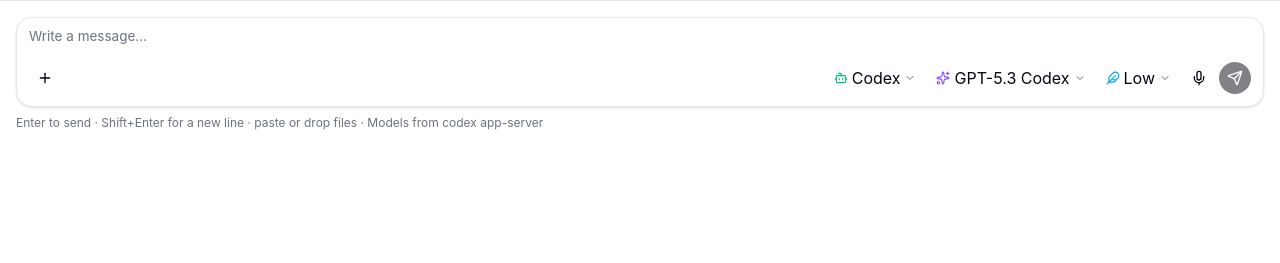
AssistantComposer › completes the highlighted slash command on Tab after arrow navigation
Step 1. Type "/" into the text box with placeholder "Write a message..." → (640, 40), box [17, 18, 1263, 62]
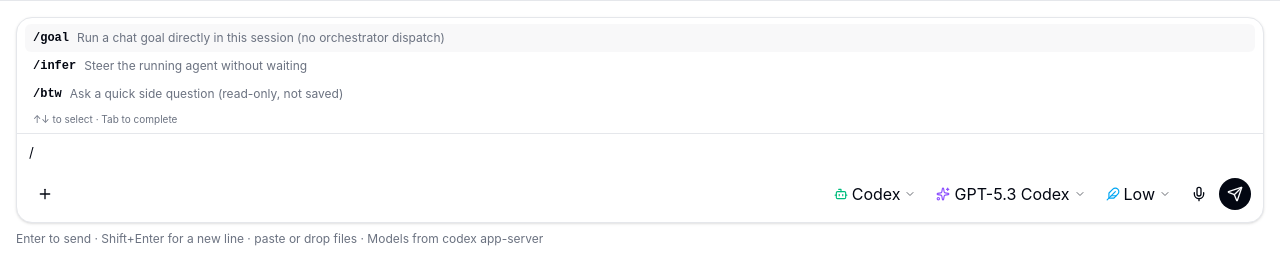
Step 2. Press ArrowDown in the text box with placeholder "Write a message...", box [17, 134, 1263, 178]
Step 3. Press Tab in the text box with placeholder "Write a message...", box [17, 134, 1263, 178]
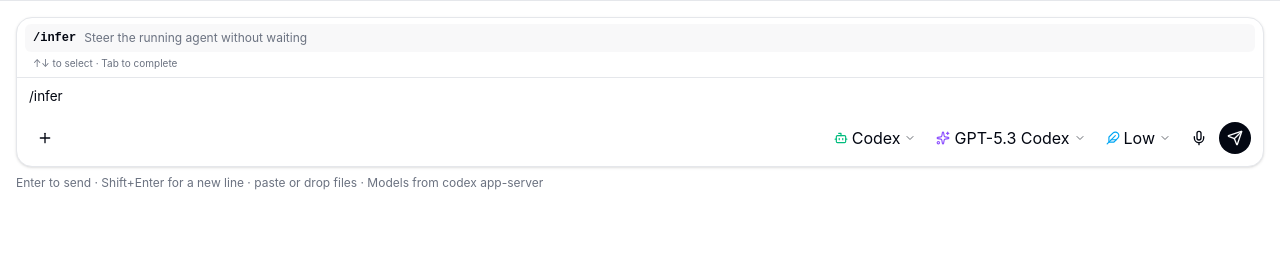
Expected: the text box with placeholder "Write a message..." holds "/infer ", [17, 78, 1263, 122]
